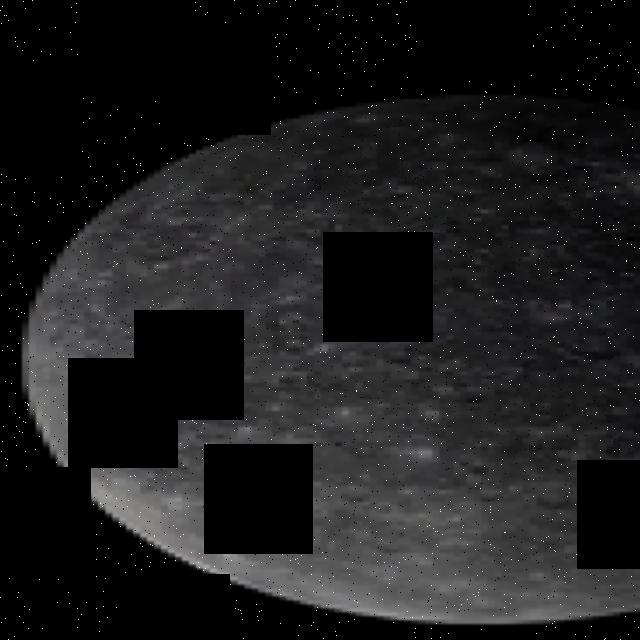Mercury: (14, 90, 640, 624)
